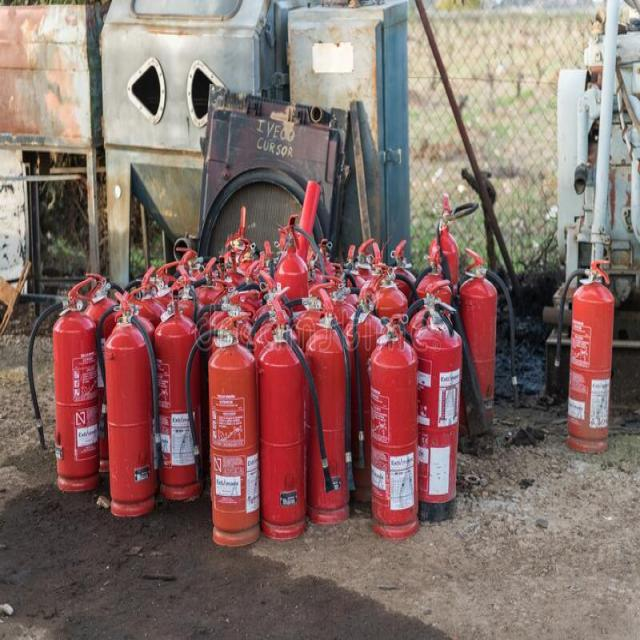fire_extinguisher: (182, 308, 260, 552), (25, 274, 107, 499), (252, 290, 314, 546), (99, 284, 166, 517), (398, 292, 464, 525), (430, 191, 490, 438), (304, 289, 364, 530), (269, 210, 326, 454), (148, 277, 206, 508), (550, 256, 616, 456), (454, 244, 520, 442), (336, 270, 388, 510), (367, 311, 421, 542), (376, 238, 423, 480), (408, 240, 456, 471), (365, 258, 414, 484)
